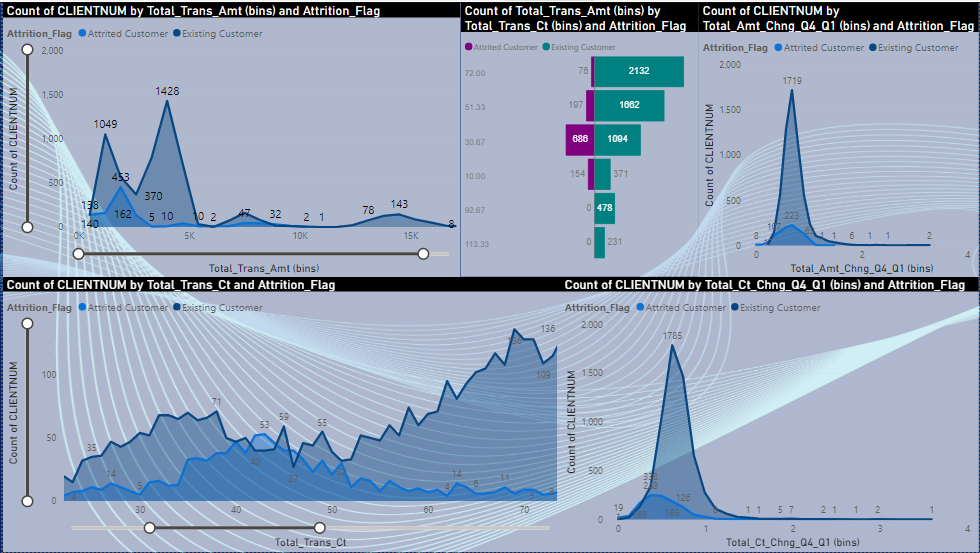

The page's visual inventory and layout, read from the dashboard file:
{"tool":"powerbi","page":{"name":"Transactions","canvas":[1280,720],"ordinal":3},"visuals":[{"type":"areaChart","fields":{"Y":["CountNonNull(BankChurners.CLIENTNUM)"],"Series":["BankChurners.Attrition_Flag"],"Category":["BankChurners.Total_Trans_Amt (bins)"]},"box":[0,0,600.1,360.6],"z":0},{"type":"areaChart","fields":{"Category":["BankChurners.Total_Trans_Ct"],"Series":["BankChurners.Attrition_Flag"],"Y":["CountNonNull(BankChurners.CLIENTNUM)"]},"box":[0,359.2,732.2,360.6],"z":1000},{"type":"areaChart","fields":{"Category":["BankChurners.Total_Amt_Chng_Q4_Q1 (bins)"],"Series":["BankChurners.Attrition_Flag"],"Y":["CountNonNull(BankChurners.CLIENTNUM)"]},"box":[912.5,0,367.5,360.6],"z":2000},{"type":"areaChart","fields":{"Category":["BankChurners.Total_Ct_Chng_Q4_Q1 (bins)"],"Y":["CountNonNull(BankChurners.CLIENTNUM)"],"Series":["BankChurners.Attrition_Flag"]},"box":[732.2,359.2,547.8,360.6],"z":4000},{"type":"TornadoChart1452517688218","fields":{"Series":["BankChurners.Attrition_Flag"],"Values":["CountNonNull(BankChurners.Total_Trans_Amt (bins))"],"Category":["BankChurners.Total_Trans_Ct (bins)"]},"box":[600.1,0,312.4,359.2],"z":5000}]}

Visuals, with their boxes in screenshot pixels (x1, y1, x2, y2), scaled from the page's 1280x720 canvas onto the 980x553 screenshot:
areaChart - CountNonNull(BankChurners.CLIENTNUM) x BankChurners.Attrition_Flag: 0:0:459:277
areaChart - BankChurners.Total_Trans_Ct x BankChurners.Attrition_Flag: 0:276:561:552
areaChart - BankChurners.Total_Amt_Chng_Q4_Q1 (bins) x BankChurners.Attrition_Flag: 699:0:979:277
areaChart - BankChurners.Total_Ct_Chng_Q4_Q1 (bins) x CountNonNull(BankChurners.CLIENTNUM): 561:276:979:552
TornadoChart1452517688218 - BankChurners.Attrition_Flag x CountNonNull(BankChurners.Total_Trans_Amt (bins)): 459:0:699:276
